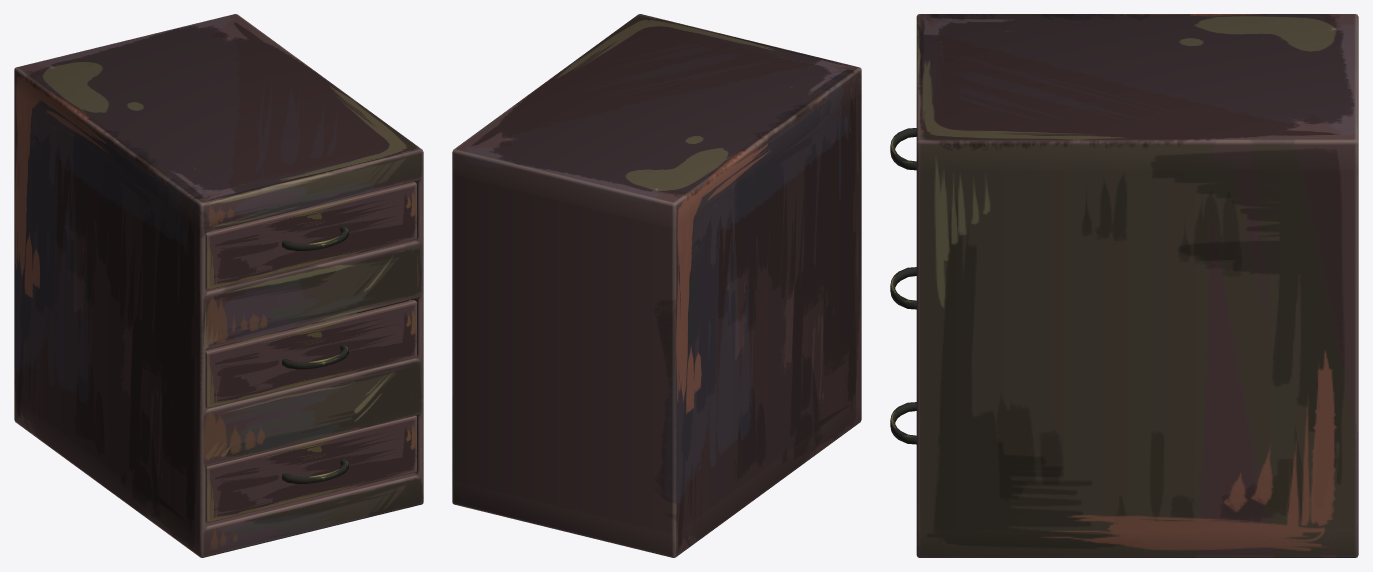
Rendered from szafka.fbx.
3 views of the same model, side by side, from view 1: azimuth 30°, elevation 25°; view 2: azimuth 150°, elevation 25°; view 3: azimuth 270°, elevation 25° (orthographic). The views are drawn at different scales.
Visible parts, largest first — view 1: cabinet.001, drawer_1.002, drawer_1.001, drawer_1.003, Drawer_1_handle.002, Drawer_1_handle.003, Drawer_1_handle.001; view 2: cabinet.001; view 3: cabinet.001, Drawer_1_handle.002, Drawer_1_handle.003, Drawer_1_handle.001.
Boxes of the visible parts, box(x1,y1,x2,y2) form: cabinet.001: box(14, 14, 423, 557); drawer_1.002: box(205, 299, 416, 408); drawer_1.001: box(205, 181, 416, 290); drawer_1.003: box(205, 415, 416, 522); Drawer_1_handle.002: box(282, 344, 348, 369); Drawer_1_handle.003: box(282, 459, 348, 483); Drawer_1_handle.001: box(282, 226, 348, 250); cabinet.001: box(452, 14, 861, 557); cabinet.001: box(916, 14, 1358, 557); Drawer_1_handle.002: box(890, 267, 916, 309); Drawer_1_handle.003: box(890, 402, 916, 444); Drawer_1_handle.001: box(890, 128, 916, 170).
Bounding box in the file's own units: 52.45 × 79.64 × 80.84.
3 materials, 3 textured.
